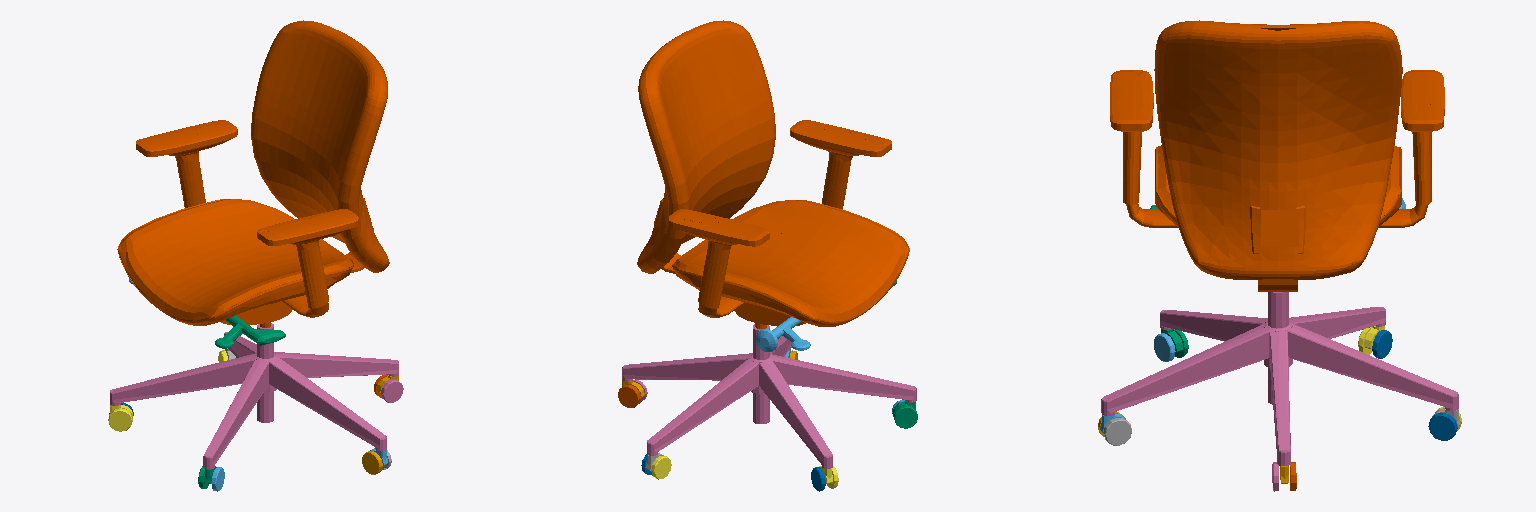
robot.urdf — partnet_811c349efc40c6feaf288f952624966:
<?xml version="1.0" ?>
<robot name="partnet_811c349efc40c6feaf288f952624966">
	<link name="base"/>
	<link name="link_0">
		<visual name="lever-43">
			<origin xyz="0.08663812725804754 0.1477292507709976 0"/>
			<geometry>
				<mesh filename="textured_objs/original-21.obj"/>
			</geometry>
		</visual>
		<collision>
			<origin xyz="0.08663812725804754 0.1477292507709976 0"/>
			<geometry>
				<mesh filename="textured_objs/original-21.obj"/>
			</geometry>
		</collision>
	</link>
	<joint name="joint_0" type="revolute">
		<origin xyz="-0.09161512725804753 -0.1477292507709976 -0.056823"/>
		<axis xyz="0 0 1"/>
		<child link="link_0"/>
		<parent link="link_12"/>
		<limit lower="0.0" upper="0.20106192982974674"/>
	</joint>
	<link name="link_1">
		<visual name="lever-44">
			<origin xyz="-0.08782858145423231 0.1379207742877884 0"/>
			<geometry>
				<mesh filename="textured_objs/original-20.obj"/>
			</geometry>
		</visual>
		<collision>
			<origin xyz="-0.08782858145423231 0.1379207742877884 0"/>
			<geometry>
				<mesh filename="textured_objs/original-20.obj"/>
			</geometry>
		</collision>
	</link>
	<joint name="joint_1" type="revolute">
		<origin xyz="0.08285158145423231 -0.1379207742877884 -0.056823"/>
		<axis xyz="0 0 -1"/>
		<child link="link_1"/>
		<parent link="link_12"/>
		<limit lower="-0.0" upper="0.20106192982974674"/>
	</joint>
	<link name="link_2">
		<visual name="wheel-41">
			<origin xyz="0.5249780501654557 0.7313998264037611 0.15098083059845893"/>
			<geometry>
				<mesh filename="textured_objs/original-38.obj"/>
			</geometry>
		</visual>
		<collision>
			<origin xyz="0.5249780501654557 0.7313998264037611 0.15098083059845893"/>
			<geometry>
				<mesh filename="textured_objs/original-38.obj"/>
			</geometry>
		</collision>
	</link>
	<joint name="joint_2" type="continuous">
		<origin xyz="0.03424050135652712 -0.7313998264037611 -0.04638946615722139"/>
		<axis xyz="-0.2760123304846159 -0.0002945439074830451 0.9611540493928836"/>
		<child link="link_2"/>
		<parent link="link_14"/>
	</joint>
	<link name="link_3">
		<visual name="wheel-42">
			<origin xyz="0.5249780501654557 0.7313998264037611 0.15098083059845893"/>
			<geometry>
				<mesh filename="textured_objs/original-39.obj"/>
			</geometry>
		</visual>
		<collision>
			<origin xyz="0.5249780501654557 0.7313998264037611 0.15098083059845893"/>
			<geometry>
				<mesh filename="textured_objs/original-39.obj"/>
			</geometry>
		</collision>
	</link>
	<joint name="joint_3" type="continuous">
		<origin xyz="0.03424050135652712 -0.7313998264037611 -0.04638946615722139"/>
		<axis xyz="-0.2760123304846159 -0.0002945439074830451 0.9611540493928836"/>
		<child link="link_3"/>
		<parent link="link_14"/>
	</joint>
	<link name="link_4">
		<visual name="wheel-37">
			<origin xyz="0.017212425981784695 0.7313732533845521 0.5092680747368981"/>
			<geometry>
				<mesh filename="textured_objs/original-34.obj"/>
			</geometry>
		</visual>
		<collision>
			<origin xyz="0.017212425981784695 0.7313732533845521 0.5092680747368981"/>
			<geometry>
				<mesh filename="textured_objs/original-34.obj"/>
			</geometry>
		</collision>
	</link>
	<joint name="joint_4" type="continuous">
		<origin xyz="-0.0006666514038856861 -0.7313732533845521 0.020076167880698215"/>
		<axis xyz="-0.9993214504172013 -0.0020875243364418252 0.036773373223108224"/>
		<child link="link_4"/>
		<parent link="link_15"/>
	</joint>
	<link name="link_5">
		<visual name="wheel-38">
			<origin xyz="0.017212425981784695 0.7313732533845521 0.5092680747368981"/>
			<geometry>
				<mesh filename="textured_objs/original-35.obj"/>
			</geometry>
		</visual>
		<collision>
			<origin xyz="0.017212425981784695 0.7313732533845521 0.5092680747368981"/>
			<geometry>
				<mesh filename="textured_objs/original-35.obj"/>
			</geometry>
		</collision>
	</link>
	<joint name="joint_5" type="continuous">
		<origin xyz="-0.0006666514038856861 -0.7313732533845521 0.020076167880698215"/>
		<axis xyz="-0.9993214504172013 -0.0020875243364418252 0.036773373223108224"/>
		<child link="link_5"/>
		<parent link="link_15"/>
	</joint>
	<link name="link_6">
		<visual name="wheel-33">
			<origin xyz="-0.5176517469256298 0.7314251792291601 0.18870106421570007"/>
			<geometry>
				<mesh filename="textured_objs/original-30.obj"/>
			</geometry>
		</visual>
		<collision>
			<origin xyz="-0.5176517469256298 0.7314251792291601 0.18870106421570007"/>
			<geometry>
				<mesh filename="textured_objs/original-30.obj"/>
			</geometry>
		</collision>
	</link>
	<joint name="joint_6" type="continuous">
		<origin xyz="-0.037509291601474315 -0.7314251792291601 -0.04422003904003455"/>
		<axis xyz="0.342426876959796 -4.809964583497058e-05 0.9395444809172074"/>
		<child link="link_6"/>
		<parent link="link_16"/>
	</joint>
	<link name="link_7">
		<visual name="wheel-34">
			<origin xyz="-0.5176517469256298 0.7314251792291601 0.18870106421570007"/>
			<geometry>
				<mesh filename="textured_objs/original-31.obj"/>
			</geometry>
		</visual>
		<collision>
			<origin xyz="-0.5176517469256298 0.7314251792291601 0.18870106421570007"/>
			<geometry>
				<mesh filename="textured_objs/original-31.obj"/>
			</geometry>
		</collision>
	</link>
	<joint name="joint_7" type="continuous">
		<origin xyz="-0.037509291601474315 -0.7314251792291601 -0.04422003904003455"/>
		<axis xyz="0.342426876959796 -4.809964583497058e-05 0.9395444809172074"/>
		<child link="link_7"/>
		<parent link="link_16"/>
	</joint>
	<link name="link_8">
		<visual name="wheel-29">
			<origin xyz="-0.3778363370334372 0.7314265 -0.483205965717323"/>
			<geometry>
				<mesh filename="textured_objs/original-46.obj"/>
			</geometry>
		</visual>
		<collision>
			<origin xyz="-0.3778363370334372 0.7314265 -0.483205965717323"/>
			<geometry>
				<mesh filename="textured_objs/original-46.obj"/>
			</geometry>
		</collision>
	</link>
	<joint name="joint_8" type="continuous">
		<origin xyz="0.012085030010775044 -0.7314265 -0.03495326308582347"/>
		<axis xyz="0.7877619511607603 0 -0.6159797953694522"/>
		<child link="link_8"/>
		<parent link="link_17"/>
	</joint>
	<link name="link_9">
		<visual name="wheel-30">
			<origin xyz="-0.3778363370334372 0.7314265 -0.483205965717323"/>
			<geometry>
				<mesh filename="textured_objs/original-47.obj"/>
			</geometry>
		</visual>
		<collision>
			<origin xyz="-0.3778363370334372 0.7314265 -0.483205965717323"/>
			<geometry>
				<mesh filename="textured_objs/original-47.obj"/>
			</geometry>
		</collision>
	</link>
	<joint name="joint_9" type="continuous">
		<origin xyz="0.012085030010775044 -0.7314265 -0.03495326308582347"/>
		<axis xyz="0.7877619511607603 0 -0.6159797953694522"/>
		<child link="link_9"/>
		<parent link="link_17"/>
	</joint>
	<link name="link_10">
		<visual name="wheel-25">
			<origin xyz="0.34037500044103797 0.7314721903000174 -0.5069054484051658"/>
			<geometry>
				<mesh filename="textured_objs/original-42.obj"/>
			</geometry>
		</visual>
		<collision>
			<origin xyz="0.34037500044103797 0.7314721903000174 -0.5069054484051658"/>
			<geometry>
				<mesh filename="textured_objs/original-42.obj"/>
			</geometry>
		</collision>
	</link>
	<joint name="joint_10" type="continuous">
		<origin xyz="-0.017397499313034304 -0.7314721903000174 -0.03590658568194949"/>
		<axis xyz="0.8297053052480169 0.0007440671274425703 0.5582011759280028"/>
		<child link="link_10"/>
		<parent link="link_18"/>
	</joint>
	<link name="link_11">
		<visual name="wheel-26">
			<origin xyz="0.34037500044103797 0.7314721903000174 -0.5069054484051658"/>
			<geometry>
				<mesh filename="textured_objs/original-43.obj"/>
			</geometry>
		</visual>
		<collision>
			<origin xyz="0.34037500044103797 0.7314721903000174 -0.5069054484051658"/>
			<geometry>
				<mesh filename="textured_objs/original-43.obj"/>
			</geometry>
		</collision>
	</link>
	<joint name="joint_11" type="continuous">
		<origin xyz="-0.017397499313034304 -0.7314721903000174 -0.03590658568194949"/>
		<axis xyz="0.8297053052480169 0.0007440671274425703 0.5582011759280028"/>
		<child link="link_11"/>
		<parent link="link_18"/>
	</joint>
	<link name="link_12">
		<visual name="back_support-58">
			<origin xyz="-0.0049770000000000005 0 -0.056823"/>
			<geometry>
				<mesh filename="textured_objs/original-53.obj"/>
			</geometry>
		</visual>
		<visual name="back_connector-60">
			<origin xyz="-0.0049770000000000005 0 -0.056823"/>
			<geometry>
				<mesh filename="textured_objs/original-54.obj"/>
			</geometry>
		</visual>
		<visual name="back_connector-60">
			<origin xyz="-0.0049770000000000005 0 -0.056823"/>
			<geometry>
				<mesh filename="textured_objs/original-27.obj"/>
			</geometry>
		</visual>
		<visual name="back_soft_surface-62">
			<origin xyz="-0.0049770000000000005 0 -0.056823"/>
			<geometry>
				<mesh filename="textured_objs/original-50.obj"/>
			</geometry>
		</visual>
		<visual name="armrest_hard_surface-55">
			<origin xyz="-0.0049770000000000005 0 -0.056823"/>
			<geometry>
				<mesh filename="textured_objs/original-9.obj"/>
			</geometry>
		</visual>
		<visual name="armrest_hard_surface-55">
			<origin xyz="-0.0049770000000000005 0 -0.056823"/>
			<geometry>
				<mesh filename="textured_objs/original-8.obj"/>
			</geometry>
		</visual>
		<visual name="arm_vertical_bar-56">
			<origin xyz="-0.0049770000000000005 0 -0.056823"/>
			<geometry>
				<mesh filename="textured_objs/original-7.obj"/>
			</geometry>
		</visual>
		<visual name="arm_horizontal_bar-57">
			<origin xyz="-0.0049770000000000005 0 -0.056823"/>
			<geometry>
				<mesh filename="textured_objs/original-10.obj"/>
			</geometry>
		</visual>
		<visual name="armrest_hard_surface-52">
			<origin xyz="-0.0049770000000000005 0 -0.056823"/>
			<geometry>
				<mesh filename="textured_objs/original-4.obj"/>
			</geometry>
		</visual>
		<visual name="armrest_hard_surface-52">
			<origin xyz="-0.0049770000000000005 0 -0.056823"/>
			<geometry>
				<mesh filename="textured_objs/original-5.obj"/>
			</geometry>
		</visual>
		<visual name="arm_vertical_bar-53">
			<origin xyz="-0.0049770000000000005 0 -0.056823"/>
			<geometry>
				<mesh filename="textured_objs/original-3.obj"/>
			</geometry>
		</visual>
		<visual name="arm_horizontal_bar-54">
			<origin xyz="-0.0049770000000000005 0 -0.056823"/>
			<geometry>
				<mesh filename="textured_objs/original-6.obj"/>
			</geometry>
		</visual>
		<visual name="seat_soft_surface-50">
			<origin xyz="-0.0049770000000000005 0 -0.056823"/>
			<geometry>
				<mesh filename="textured_objs/original-49.obj"/>
			</geometry>
		</visual>
		<visual name="seat_support-51">
			<origin xyz="-0.0049770000000000005 0 -0.056823"/>
			<geometry>
				<mesh filename="textured_objs/original-52.obj"/>
			</geometry>
		</visual>
		<visual name="central_support-47">
			<origin xyz="-0.0049770000000000005 0 -0.056823"/>
			<geometry>
				<mesh filename="textured_objs/original-19.obj"/>
			</geometry>
		</visual>
		<visual name="mounting_plate-45">
			<origin xyz="-0.0049770000000000005 0 -0.056823"/>
			<geometry>
				<mesh filename="textured_objs/original-23.obj"/>
			</geometry>
		</visual>
		<visual name="mounting_plate-45">
			<origin xyz="-0.0049770000000000005 0 -0.056823"/>
			<geometry>
				<mesh filename="textured_objs/original-25.obj"/>
			</geometry>
		</visual>
		<visual name="mounting_plate-45">
			<origin xyz="-0.0049770000000000005 0 -0.056823"/>
			<geometry>
				<mesh filename="textured_objs/original-24.obj"/>
			</geometry>
		</visual>
		<visual name="mounting_plate-63">
			<origin xyz="-0.0049770000000000005 0 -0.056823"/>
			<geometry>
				<mesh filename="textured_objs/original-26.obj"/>
			</geometry>
		</visual>
		<collision>
			<origin xyz="-0.0049770000000000005 0 -0.056823"/>
			<geometry>
				<mesh filename="textured_objs/original-53.obj"/>
			</geometry>
		</collision>
		<collision>
			<origin xyz="-0.0049770000000000005 0 -0.056823"/>
			<geometry>
				<mesh filename="textured_objs/original-54.obj"/>
			</geometry>
		</collision>
		<collision>
			<origin xyz="-0.0049770000000000005 0 -0.056823"/>
			<geometry>
				<mesh filename="textured_objs/original-27.obj"/>
			</geometry>
		</collision>
		<collision>
			<origin xyz="-0.0049770000000000005 0 -0.056823"/>
			<geometry>
				<mesh filename="textured_objs/original-50.obj"/>
			</geometry>
		</collision>
		<collision>
			<origin xyz="-0.0049770000000000005 0 -0.056823"/>
			<geometry>
				<mesh filename="textured_objs/original-9.obj"/>
			</geometry>
		</collision>
		<collision>
			<origin xyz="-0.0049770000000000005 0 -0.056823"/>
			<geometry>
				<mesh filename="textured_objs/original-8.obj"/>
			</geometry>
		</collision>
		<collision>
			<origin xyz="-0.0049770000000000005 0 -0.056823"/>
			<geometry>
				<mesh filename="textured_objs/original-7.obj"/>
			</geometry>
		</collision>
		<collision>
			<origin xyz="-0.0049770000000000005 0 -0.056823"/>
			<geometry>
				<mesh filename="textured_objs/original-10.obj"/>
			</geometry>
		</collision>
		<collision>
			<origin xyz="-0.0049770000000000005 0 -0.056823"/>
			<geometry>
				<mesh filename="textured_objs/original-4.obj"/>
			</geometry>
		</collision>
		<collision>
			<origin xyz="-0.0049770000000000005 0 -0.056823"/>
			<geometry>
				<mesh filename="textured_objs/original-5.obj"/>
			</geometry>
		</collision>
		<collision>
			<origin xyz="-0.0049770000000000005 0 -0.056823"/>
			<geometry>
				<mesh filename="textured_objs/original-3.obj"/>
			</geometry>
		</collision>
		<collision>
			<origin xyz="-0.0049770000000000005 0 -0.056823"/>
			<geometry>
				<mesh filename="textured_objs/original-6.obj"/>
			</geometry>
		</collision>
		<collision>
			<origin xyz="-0.0049770000000000005 0 -0.056823"/>
			<geometry>
				<mesh filename="textured_objs/original-49.obj"/>
			</geometry>
		</collision>
		<collision>
			<origin xyz="-0.0049770000000000005 0 -0.056823"/>
			<geometry>
				<mesh filename="textured_objs/original-52.obj"/>
			</geometry>
		</collision>
		<collision>
			<origin xyz="-0.0049770000000000005 0 -0.056823"/>
			<geometry>
				<mesh filename="textured_objs/original-19.obj"/>
			</geometry>
		</collision>
		<collision>
			<origin xyz="-0.0049770000000000005 0 -0.056823"/>
			<geometry>
				<mesh filename="textured_objs/original-23.obj"/>
			</geometry>
		</collision>
		<collision>
			<origin xyz="-0.0049770000000000005 0 -0.056823"/>
			<geometry>
				<mesh filename="textured_objs/original-25.obj"/>
			</geometry>
		</collision>
		<collision>
			<origin xyz="-0.0049770000000000005 0 -0.056823"/>
			<geometry>
				<mesh filename="textured_objs/original-24.obj"/>
			</geometry>
		</collision>
		<collision>
			<origin xyz="-0.0049770000000000005 0 -0.056823"/>
			<geometry>
				<mesh filename="textured_objs/original-26.obj"/>
			</geometry>
		</collision>
	</link>
	<joint name="joint_12" type="continuous">
		<origin xyz="0.0 0 0.0"/>
		<axis xyz="0 1 0"/>
		<child link="link_12"/>
		<parent link="link_12_helper"/>
	</joint>
	<link name="link_13">
		<visual name="central_support-46">
			<origin xyz="0 0 0"/>
			<geometry>
				<mesh filename="textured_objs/original-12.obj"/>
			</geometry>
		</visual>
		<visual name="central_support-48">
			<origin xyz="0 0 0"/>
			<geometry>
				<mesh filename="textured_objs/original-18.obj"/>
			</geometry>
		</visual>
		<visual name="leg-10">
			<origin xyz="0 0 0"/>
			<geometry>
				<mesh filename="textured_objs/original-15.obj"/>
			</geometry>
		</visual>
		<visual name="leg-11">
			<origin xyz="0 0 0"/>
			<geometry>
				<mesh filename="textured_objs/original-16.obj"/>
			</geometry>
		</visual>
		<visual name="leg-12">
			<origin xyz="0 0 0"/>
			<geometry>
				<mesh filename="textured_objs/original-17.obj"/>
			</geometry>
		</visual>
		<visual name="leg-13">
			<origin xyz="0 0 0"/>
			<geometry>
				<mesh filename="textured_objs/original-13.obj"/>
			</geometry>
		</visual>
		<visual name="leg-14">
			<origin xyz="0 0 0"/>
			<geometry>
				<mesh filename="textured_objs/original-14.obj"/>
			</geometry>
		</visual>
		<collision>
			<origin xyz="0 0 0"/>
			<geometry>
				<mesh filename="textured_objs/original-12.obj"/>
			</geometry>
		</collision>
		<collision>
			<origin xyz="0 0 0"/>
			<geometry>
				<mesh filename="textured_objs/original-18.obj"/>
			</geometry>
		</collision>
		<collision>
			<origin xyz="0 0 0"/>
			<geometry>
				<mesh filename="textured_objs/original-15.obj"/>
			</geometry>
		</collision>
		<collision>
			<origin xyz="0 0 0"/>
			<geometry>
				<mesh filename="textured_objs/original-16.obj"/>
			</geometry>
		</collision>
		<collision>
			<origin xyz="0 0 0"/>
			<geometry>
				<mesh filename="textured_objs/original-17.obj"/>
			</geometry>
		</collision>
		<collision>
			<origin xyz="0 0 0"/>
			<geometry>
				<mesh filename="textured_objs/original-13.obj"/>
			</geometry>
		</collision>
		<collision>
			<origin xyz="0 0 0"/>
			<geometry>
				<mesh filename="textured_objs/original-14.obj"/>
			</geometry>
		</collision>
	</link>
	<joint name="joint_13" type="fixed">
		<origin rpy="1.570796326794897 0 -1.570796326794897" xyz="0 0 0"/>
		<child link="link_13"/>
		<parent link="base"/>
	</joint>
	<link name="link_14">
		<visual name="caster_yoke-39">
			<origin xyz="0.5592185515219829 0 0.10459136444123754"/>
			<geometry>
				<mesh filename="textured_objs/original-37.obj"/>
			</geometry>
		</visual>
		<visual name="caster_stem-40">
			<origin xyz="0.5592185515219829 0 0.10459136444123754"/>
			<geometry>
				<mesh filename="textured_objs/original-36.obj"/>
			</geometry>
		</visual>
		<collision>
			<origin xyz="0.5592185515219829 0 0.10459136444123754"/>
			<geometry>
				<mesh filename="textured_objs/original-37.obj"/>
			</geometry>
		</collision>
		<collision>
			<origin xyz="0.5592185515219829 0 0.10459136444123754"/>
			<geometry>
				<mesh filename="textured_objs/original-36.obj"/>
			</geometry>
		</collision>
	</link>
	<joint name="joint_14" type="continuous">
		<origin xyz="-0.5592185515219829 0 -0.10459136444123754"/>
		<axis xyz="0 1 0"/>
		<child link="link_14"/>
		<parent link="link_13"/>
	</joint>
	<link name="link_15">
		<visual name="caster_yoke-35">
			<origin xyz="0.01654577457789901 0 0.5293442426175963"/>
			<geometry>
				<mesh filename="textured_objs/original-33.obj"/>
			</geometry>
		</visual>
		<visual name="caster_stem-36">
			<origin xyz="0.01654577457789901 0 0.5293442426175963"/>
			<geometry>
				<mesh filename="textured_objs/original-32.obj"/>
			</geometry>
		</visual>
		<collision>
			<origin xyz="0.01654577457789901 0 0.5293442426175963"/>
			<geometry>
				<mesh filename="textured_objs/original-33.obj"/>
			</geometry>
		</collision>
		<collision>
			<origin xyz="0.01654577457789901 0 0.5293442426175963"/>
			<geometry>
				<mesh filename="textured_objs/original-32.obj"/>
			</geometry>
		</collision>
	</link>
	<joint name="joint_15" type="continuous">
		<origin xyz="-0.01654577457789901 0 -0.5293442426175963"/>
		<axis xyz="0 1 0"/>
		<child link="link_15"/>
		<parent link="link_13"/>
	</joint>
	<link name="link_16">
		<visual name="caster_yoke-31">
			<origin xyz="-0.5551610385271041 0 0.14448102517566552"/>
			<geometry>
				<mesh filename="textured_objs/original-29.obj"/>
			</geometry>
		</visual>
		<visual name="caster_stem-32">
			<origin xyz="-0.5551610385271041 0 0.14448102517566552"/>
			<geometry>
				<mesh filename="textured_objs/original-28.obj"/>
			</geometry>
		</visual>
		<collision>
			<origin xyz="-0.5551610385271041 0 0.14448102517566552"/>
			<geometry>
				<mesh filename="textured_objs/original-29.obj"/>
			</geometry>
		</collision>
		<collision>
			<origin xyz="-0.5551610385271041 0 0.14448102517566552"/>
			<geometry>
				<mesh filename="textured_objs/original-28.obj"/>
			</geometry>
		</collision>
	</link>
	<joint name="joint_16" type="continuous">
		<origin xyz="0.5551610385271041 0 -0.14448102517566552"/>
		<axis xyz="0 1 0"/>
		<child link="link_16"/>
		<parent link="link_13"/>
	</joint>
	<link name="link_17">
		<visual name="caster_yoke-27">
			<origin xyz="-0.3657513070226622 0 -0.5181592288031465"/>
			<geometry>
				<mesh filename="textured_objs/original-45.obj"/>
			</geometry>
		</visual>
		<visual name="caster_stem-28">
			<origin xyz="-0.3657513070226622 0 -0.5181592288031465"/>
			<geometry>
				<mesh filename="textured_objs/original-44.obj"/>
			</geometry>
		</visual>
		<collision>
			<origin xyz="-0.3657513070226622 0 -0.5181592288031465"/>
			<geometry>
				<mesh filename="textured_objs/original-45.obj"/>
			</geometry>
		</collision>
		<collision>
			<origin xyz="-0.3657513070226622 0 -0.5181592288031465"/>
			<geometry>
				<mesh filename="textured_objs/original-44.obj"/>
			</geometry>
		</collision>
	</link>
	<joint name="joint_17" type="continuous">
		<origin xyz="0.3657513070226622 0 0.5181592288031465"/>
		<axis xyz="0 1 0"/>
		<child link="link_17"/>
		<parent link="link_13"/>
	</joint>
	<link name="link_18">
		<visual name="caster_yoke-23">
			<origin xyz="0.32297750112800366 0 -0.5428120340871153"/>
			<geometry>
				<mesh filename="textured_objs/original-41.obj"/>
			</geometry>
		</visual>
		<visual name="caster_stem-24">
			<origin xyz="0.32297750112800366 0 -0.5428120340871153"/>
			<geometry>
				<mesh filename="textured_objs/original-40.obj"/>
			</geometry>
		</visual>
		<collision>
			<origin xyz="0.32297750112800366 0 -0.5428120340871153"/>
			<geometry>
				<mesh filename="textured_objs/original-41.obj"/>
			</geometry>
		</collision>
		<collision>
			<origin xyz="0.32297750112800366 0 -0.5428120340871153"/>
			<geometry>
				<mesh filename="textured_objs/original-40.obj"/>
			</geometry>
		</collision>
	</link>
	<joint name="joint_18" type="continuous">
		<origin xyz="-0.32297750112800366 0 0.5428120340871153"/>
		<axis xyz="0 1 0"/>
		<child link="link_18"/>
		<parent link="link_13"/>
	</joint>
	<link name="link_12_helper"/>
	<joint name="joint_19" type="prismatic">
		<origin xyz="0.0049770000000000005 0 0.056823"/>
		<axis xyz="0 -1 0"/>
		<child link="link_12_helper"/>
		<parent link="link_13"/>
		<limit lower="0" upper="0.06800000000000006"/>
	</joint>
</robot>

--- Render facts (derived) ---
The picture shows the robot from 3 angles, left to right: view 1: azimuth 30°, elevation 25°; view 2: azimuth 150°, elevation 25°; view 3: azimuth 270°, elevation 25°; orthographic projection.
Model partnet_811c349efc40c6feaf288f952624966 with 21 links and 20 joints (2 revolute, 16 continuous, 1 prismatic, 1 fixed), rooted at base, posed every joint at zero.
Links seen in each view (by area): view 1: link_12, link_13, link_1; view 2: link_12, link_13, link_0; view 3: link_12, link_13, link_3, link_6.
Link boxes in pixels (<box>): link_12: <box>117,20,389,327</box>; link_13: <box>110,323,398,468</box>; link_1: <box>215,315,285,348</box>; link_12: <box>637,20,909,328</box>; link_13: <box>622,324,916,468</box>; link_0: <box>756,317,810,351</box>; link_12: <box>1110,20,1444,291</box>; link_13: <box>1101,292,1458,465</box>; link_3: <box>1428,413,1457,440</box>; link_6: <box>1103,418,1131,445</box>.
Size in the robot's own frame: 1.14 by 1.19 by 1.59 metres.
48 mesh visuals loaded from 48 distinct referenced files (48 OBJ).
